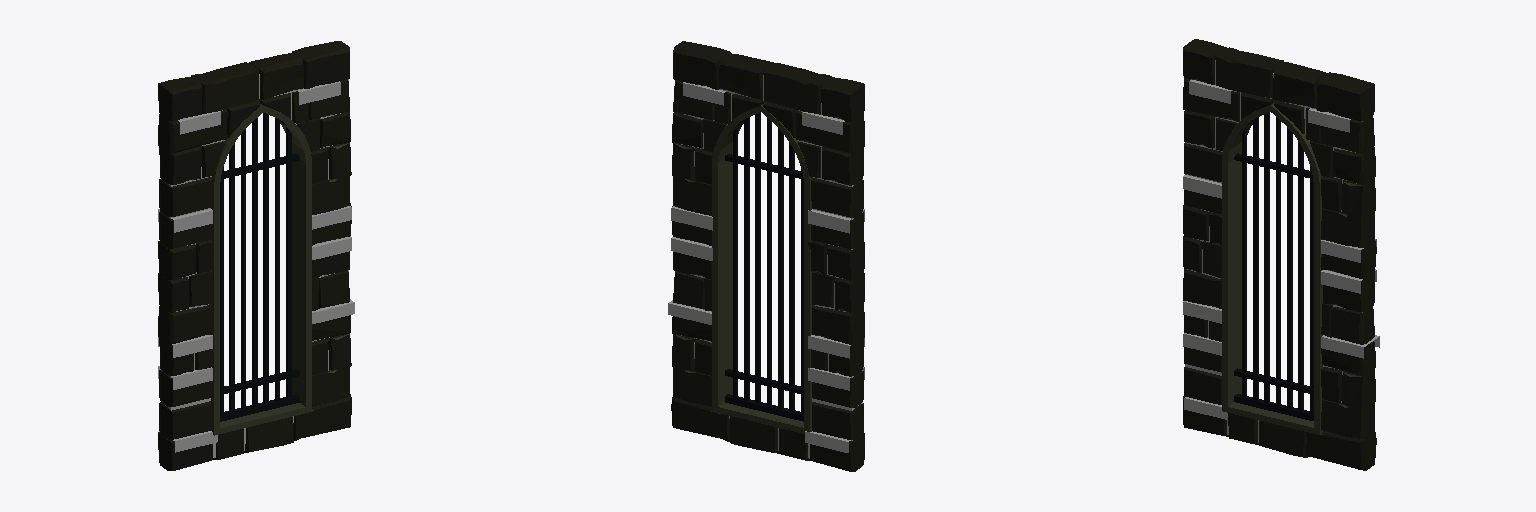
Rendered from Window_Bars_Double_Overgrown.obj.
The picture shows the model from 3 angles: view 1: azimuth 30°, elevation 25°; view 2: azimuth 150°, elevation 25°; view 3: azimuth 330°, elevation 25°; orthographic projection.
Visible parts, largest first — view 1: Window_Bars_Double_Overgrown_Cube.668; view 2: Window_Bars_Double_Overgrown_Cube.668; view 3: Window_Bars_Double_Overgrown_Cube.668.
Part boxes in pixels (x1,y1,x2,y2): Window_Bars_Double_Overgrown_Cube.668: (158, 41, 354, 470); Window_Bars_Double_Overgrown_Cube.668: (668, 41, 864, 471); Window_Bars_Double_Overgrown_Cube.668: (1183, 39, 1379, 470).
Bounding box in the file's own units: 2.01 × 3.99 × 0.3099.